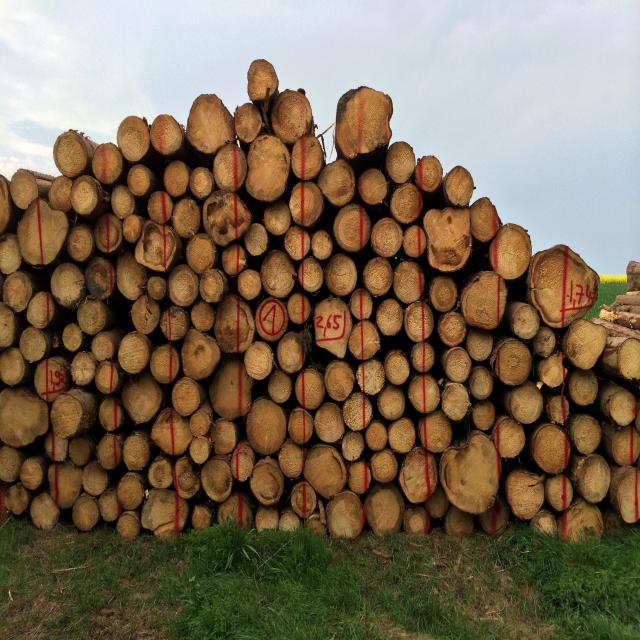wood-log: (529, 244, 602, 327), (441, 434, 502, 516), (337, 84, 394, 160), (13, 199, 68, 267), (423, 208, 471, 272), (247, 137, 291, 205), (208, 355, 254, 417), (0, 388, 48, 447), (188, 93, 234, 153), (202, 191, 250, 246), (463, 272, 509, 328), (214, 292, 254, 353), (491, 224, 533, 280), (246, 397, 286, 455), (267, 89, 311, 141), (121, 371, 164, 423), (304, 445, 346, 498), (142, 490, 190, 536), (400, 445, 438, 503), (563, 320, 607, 370), (316, 298, 352, 359), (364, 487, 406, 536), (150, 406, 192, 455), (557, 504, 603, 548), (180, 330, 220, 380), (532, 424, 571, 475), (506, 470, 545, 520), (334, 202, 373, 252), (137, 222, 177, 270), (493, 338, 532, 386), (576, 455, 613, 504), (317, 160, 355, 206), (328, 492, 364, 540), (249, 457, 284, 506), (213, 143, 248, 192), (262, 251, 297, 298), (288, 182, 323, 229), (116, 250, 148, 301), (36, 355, 72, 400), (55, 131, 90, 177), (51, 262, 86, 307), (117, 116, 151, 162), (290, 136, 324, 182), (507, 384, 545, 425), (200, 457, 233, 504), (394, 260, 429, 303), (52, 392, 84, 438), (607, 422, 639, 468), (90, 144, 124, 187), (566, 414, 602, 454), (118, 332, 152, 374), (54, 463, 85, 509), (406, 298, 437, 344), (327, 254, 359, 298), (470, 197, 501, 242), (348, 321, 382, 362), (384, 141, 417, 183), (151, 115, 184, 157), (408, 375, 443, 414), (392, 183, 425, 224), (168, 265, 200, 307), (422, 411, 454, 453), (82, 256, 111, 302), (130, 294, 162, 335), (314, 401, 345, 443), (149, 342, 180, 384), (508, 302, 542, 340), (296, 367, 326, 410), (234, 104, 265, 145), (493, 417, 524, 458), (276, 332, 306, 374), (218, 492, 252, 529), (442, 384, 474, 423), (479, 499, 511, 538), (247, 59, 276, 102), (29, 489, 60, 529), (444, 165, 475, 205), (185, 232, 216, 272), (616, 467, 638, 523), (326, 361, 356, 402), (2, 270, 32, 311), (566, 370, 600, 406), (357, 167, 390, 204), (172, 377, 204, 415), (26, 291, 57, 330), (373, 219, 404, 258), (362, 257, 393, 296), (10, 168, 40, 208), (172, 196, 201, 237), (76, 298, 107, 336), (246, 341, 276, 380), (609, 388, 639, 427), (343, 392, 372, 432), (124, 432, 153, 472), (438, 309, 468, 346), (375, 298, 404, 336), (443, 346, 474, 381), (0, 346, 27, 386), (174, 457, 199, 500), (118, 473, 147, 510), (415, 156, 443, 194), (70, 348, 98, 386), (99, 395, 127, 433), (20, 328, 50, 363), (264, 200, 293, 236), (429, 276, 458, 312), (466, 329, 496, 363), (378, 387, 407, 422), (299, 256, 325, 295), (388, 419, 416, 455), (84, 461, 112, 497), (199, 268, 227, 304), (233, 440, 257, 482), (540, 351, 568, 387), (74, 174, 99, 214), (74, 493, 101, 530), (277, 442, 304, 479), (68, 225, 95, 262), (547, 474, 574, 511), (164, 160, 190, 198), (291, 479, 317, 517), (209, 419, 237, 454), (159, 309, 187, 344), (468, 365, 495, 401), (359, 360, 386, 396), (444, 508, 475, 539), (370, 449, 399, 482), (384, 352, 411, 387), (618, 338, 640, 380), (348, 286, 374, 321), (95, 358, 121, 393), (288, 408, 313, 444), (50, 175, 74, 212), (149, 192, 175, 226), (97, 435, 122, 470), (268, 371, 294, 404), (405, 506, 431, 539), (410, 342, 436, 375), (243, 224, 269, 257), (348, 458, 371, 495), (284, 226, 309, 260), (404, 224, 428, 259), (91, 331, 118, 362), (22, 455, 46, 489), (110, 185, 134, 219), (6, 482, 30, 516), (286, 290, 310, 324), (531, 328, 558, 358), (149, 460, 175, 491), (472, 400, 497, 432), (191, 404, 216, 436), (548, 394, 573, 426), (530, 509, 555, 541), (0, 238, 21, 276), (191, 302, 217, 332), (427, 488, 452, 519), (100, 488, 122, 523), (68, 435, 92, 467), (238, 268, 262, 300), (45, 430, 69, 462), (0, 446, 21, 482), (340, 432, 365, 462), (365, 422, 389, 453), (0, 301, 16, 347), (190, 168, 213, 200), (118, 513, 142, 543), (130, 164, 152, 196), (190, 436, 213, 465), (311, 230, 333, 260), (62, 324, 84, 353), (193, 501, 214, 531), (124, 212, 142, 245), (256, 507, 280, 531), (0, 178, 10, 234), (147, 274, 167, 300), (0, 485, 9, 528)
